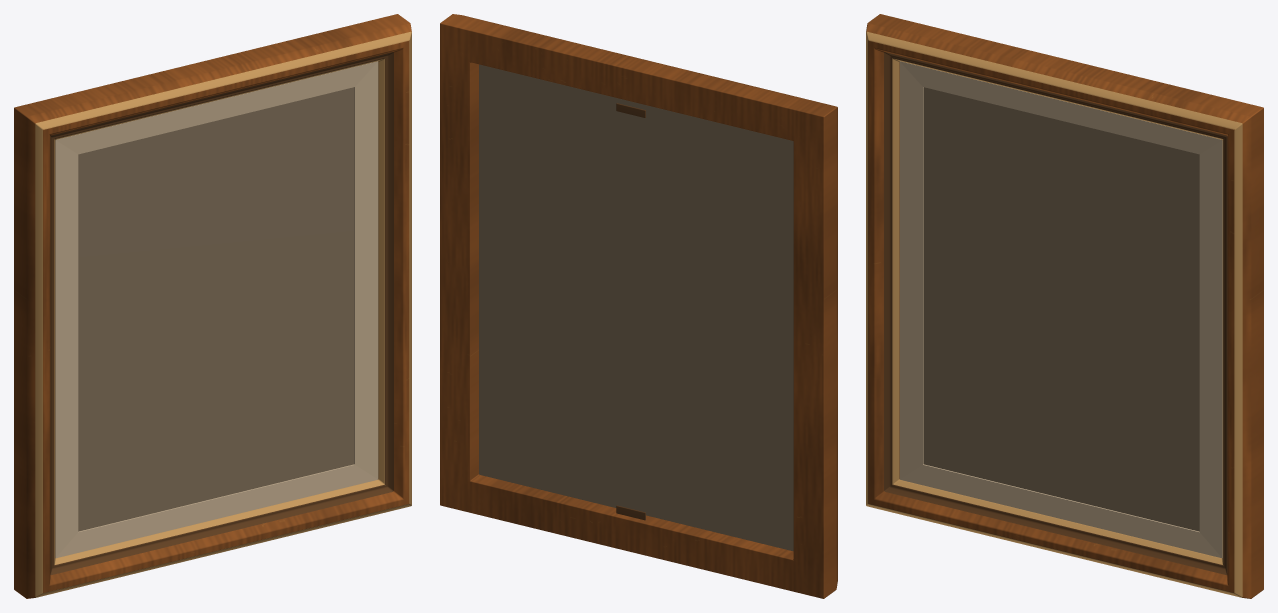
The model's file is frame-only.glb.
3 views of the same model, side by side, from view 1: azimuth 30°, elevation 25°; view 2: azimuth 150°, elevation 25°; view 3: azimuth 330°, elevation 25° (orthographic).
Visible parts, largest first — view 1: persistent_plain_blank_backing, continuous_beveled_rectangular_wood_frame, persistent_ivory_inner_mat; view 2: persistent_plain_blank_backing, continuous_beveled_rectangular_wood_frame; view 3: persistent_plain_blank_backing, continuous_beveled_rectangular_wood_frame, persistent_ivory_inner_mat.
Part boxes in pixels (box(x1,y1,x2,y2)): persistent_plain_blank_backing: box(78, 87, 354, 531); continuous_beveled_rectangular_wood_frame: box(14, 14, 411, 598); persistent_ivory_inner_mat: box(55, 61, 378, 558); persistent_plain_blank_backing: box(479, 64, 793, 551); continuous_beveled_rectangular_wood_frame: box(440, 14, 837, 598); persistent_plain_blank_backing: box(923, 87, 1199, 531); continuous_beveled_rectangular_wood_frame: box(866, 14, 1263, 598); persistent_ivory_inner_mat: box(899, 61, 1222, 558).
Bounding box in the file's own units: 0.3 × 0.36 × 0.0295.
Materials: 5 (1 with a texture image).
